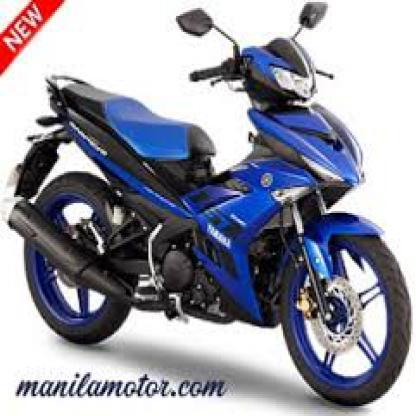Motorcycle: (13, 6, 409, 399)
